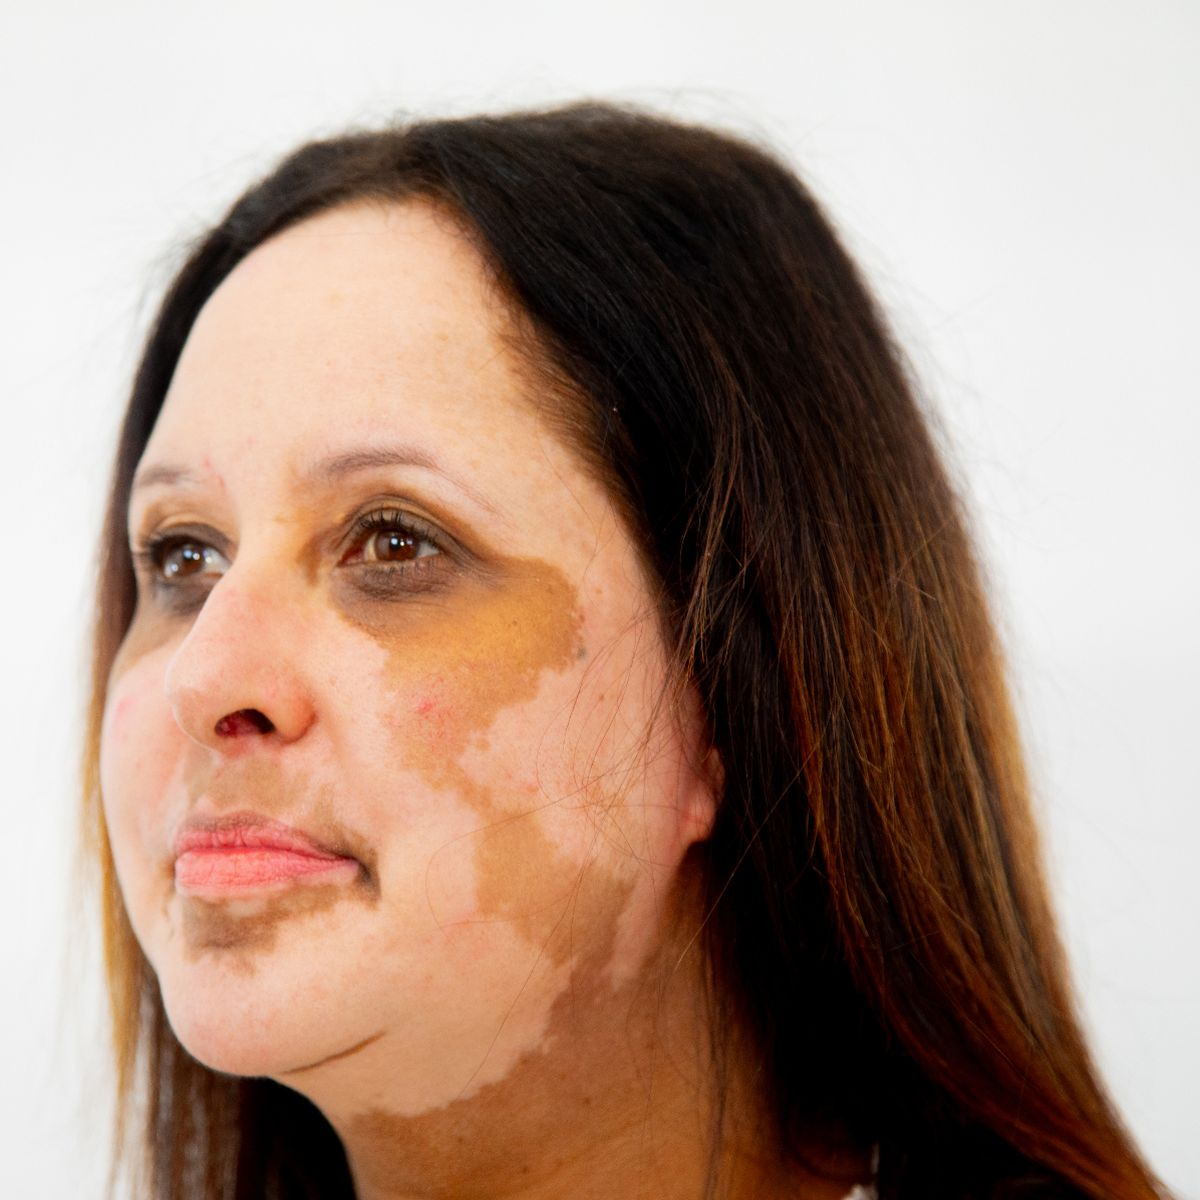Vitiligo: (122, 179, 704, 1118)
